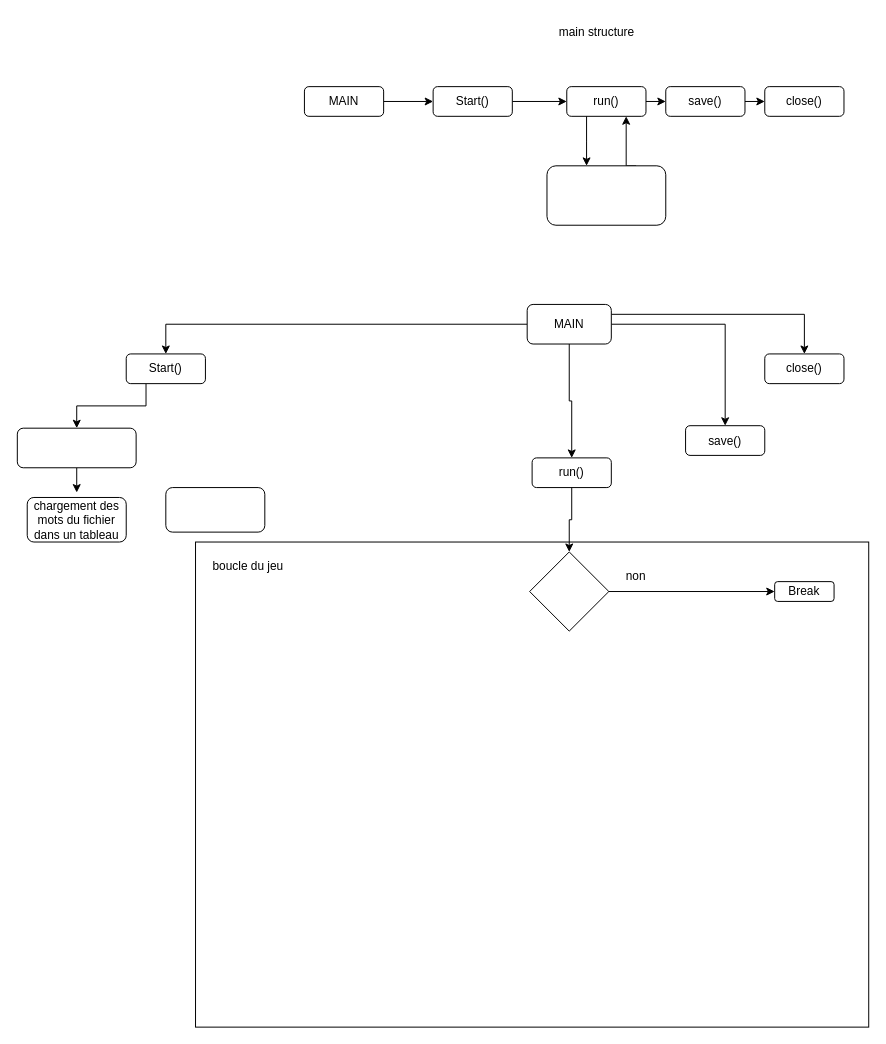
This 886x1044 diagram has some shape labels left out. The shapes that lost their labels are listed below. From the top down, each one's centre as x and y in pixels, then its label:
At point 606,195: "isRunning ?".
At point 76,447: "wordListIsGood".
At point 215,509: "chargement de état 1 pendu".
At point 569,591: "isRuning ?".
